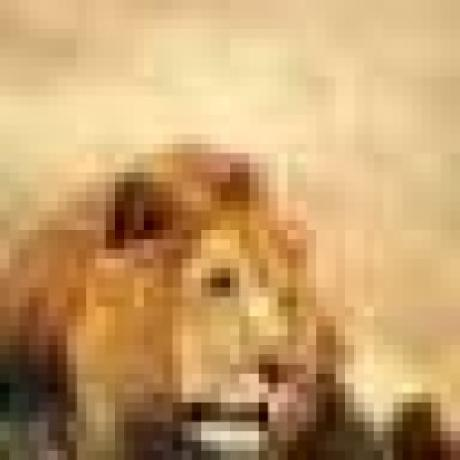Lion: (2, 133, 351, 460)
